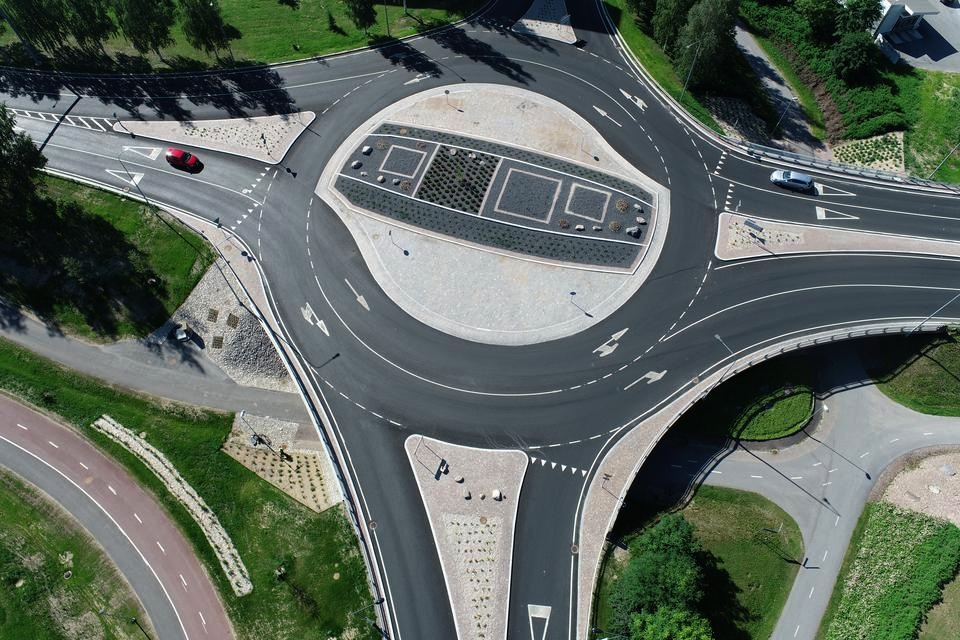roundabout: (211, 0, 768, 545)
